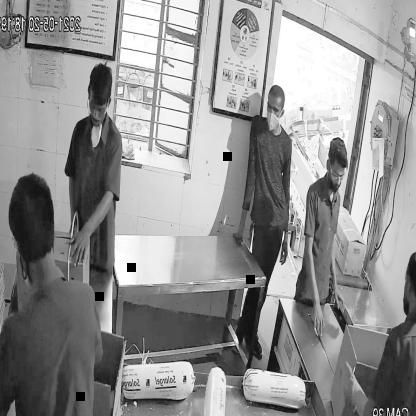goggles: (87, 98, 110, 120), (328, 165, 349, 182)
no_goggles: (265, 100, 286, 118)
